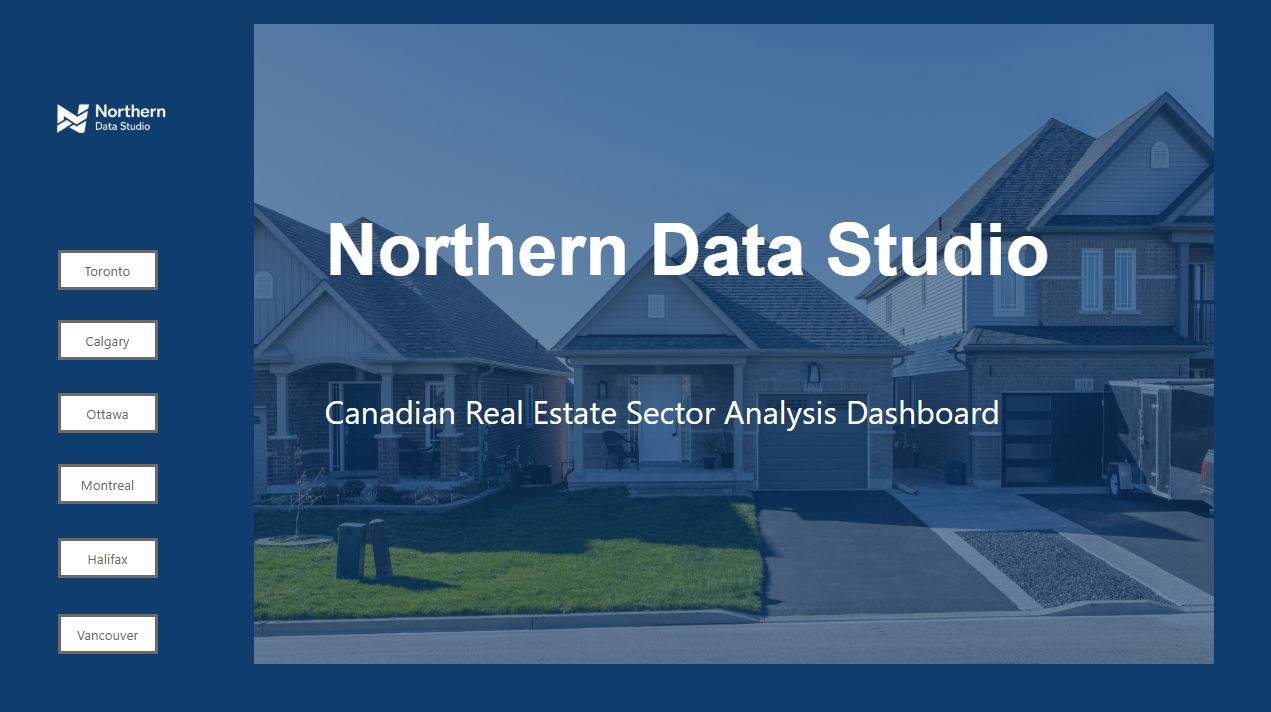

The dashboard page shown, as its layout file describes it:
{"tool":"powerbi","page":{"name":"Homepage","canvas":[1920,1080],"ordinal":0},"visuals":[{"type":"shape","box":[0,0,1920.6,1080],"z":4500},{"type":"image","box":[0,0,1920.6,1080],"z":5000},{"type":"actionButton","box":[243.4,732.9,329.9,214.1],"z":5500},{"type":"actionButton","box":[593.2,731.5,335.2,215.5],"z":6000},{"type":"actionButton","box":[960.7,732.8,344.5,214.7],"z":6500},{"type":"actionButton","box":[1335.7,732.8,344.5,214.7],"z":7000}]}

Visuals, with their boxes in screenshot pixels (x1, y1, x2, y2), scaled from the page's 1920x1080 canvas onto the 1271x712 screenshot:
shape: rect(0, 0, 1270, 711)
image: rect(0, 0, 1270, 711)
actionButton: rect(161, 483, 380, 624)
actionButton: rect(393, 482, 615, 624)
actionButton: rect(636, 483, 864, 625)
actionButton: rect(884, 483, 1112, 625)
